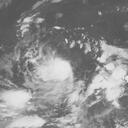cyclone: (25, 56, 78, 100)
